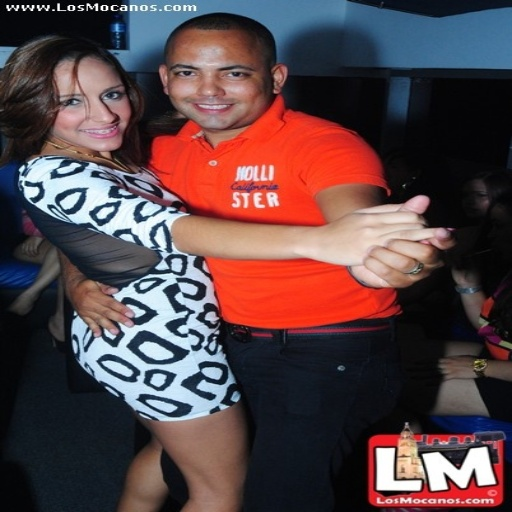hand: (343, 192, 454, 288), (64, 274, 137, 337), (436, 354, 486, 379), (448, 259, 480, 286), (20, 236, 44, 259)
